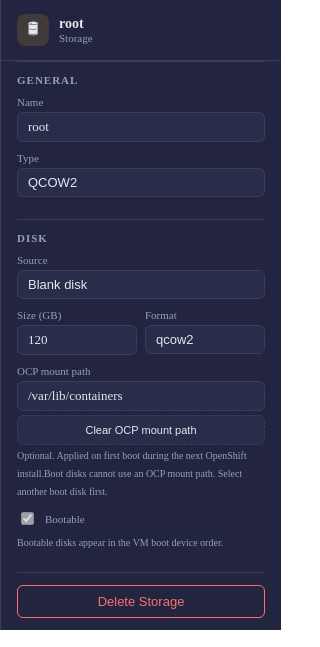
it: PropertiesPanel cluster editor › allows repairing legacy boot-and-mount conflicts in individual disk properties
This screenshot has width=320, height=647.
expect the field labelled "OCP mount path" is disabled: met, box [17,381,265,411]
expect the checkbox labelled "Bootable" is disabled: met, box [21,512,34,525]
Click the button "Clear OCP mount path" at x=141, y=430, box [17,415,265,445]
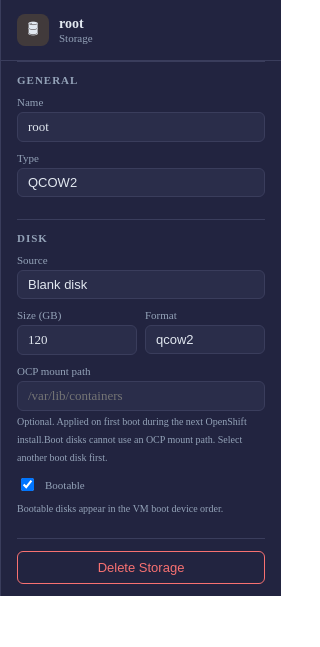
expect the field labelled "OCP mount path" is empty: met, box [17,381,265,411]
expect the checkbox labelled "Bootable" is enabled: met, box [21,478,34,491]
expect the button "Clear OCP mount path" is gone: met
